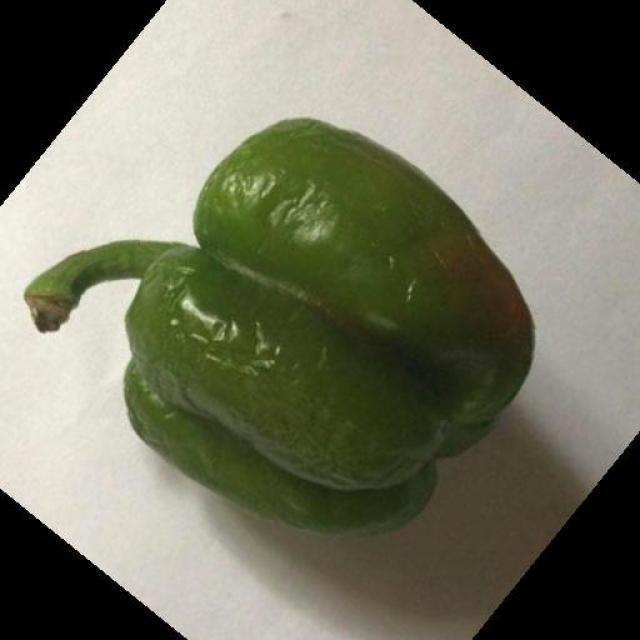Stale_Capsicum: (92, 148, 479, 494)
